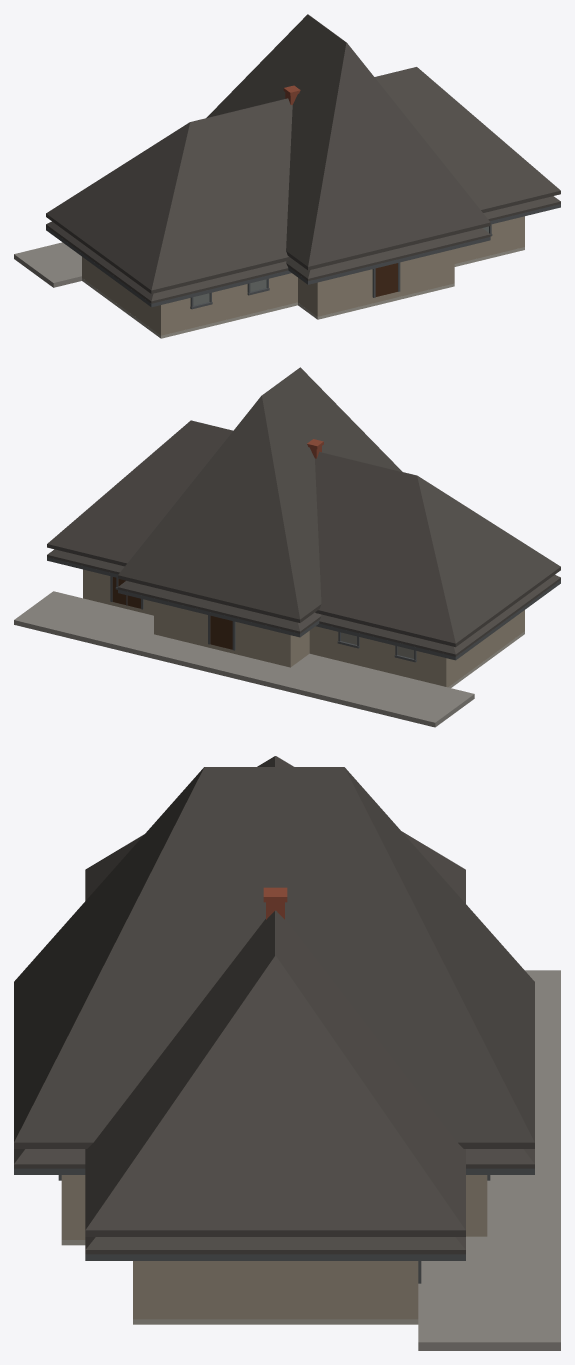
File: Racine_Junction_Depot.glb
3 renders of one model, top to bottom at view 1: azimuth 30°, elevation 25°; view 2: azimuth 150°, elevation 25°; view 3: azimuth 270°, elevation 25°, orthographic. The views are drawn at different scales.
Visible parts, largest first — view 1: roof, stone, trim, platform, foundation, doors; view 2: roof, platform, stone, trim, doors; view 3: roof, platform, stone, trim, foundation.
Boxes of the visible parts, <box> form: roof: <box>46,14,560,303</box>; stone: <box>82,216,524,335</box>; trim: <box>46,204,560,307</box>; platform: <box>14,242,81,287</box>; foundation: <box>82,247,524,338</box>; doors: <box>375,263,397,296</box>; roof: <box>47,367,560,656</box>; platform: <box>14,591,474,727</box>; stone: <box>83,569,524,687</box>; trim: <box>47,557,560,660</box>; doors: <box>112,577,232,649</box>; roof: <box>14,756,534,1254</box>; platform: <box>418,970,560,1350</box>; stone: <box>61,1175,487,1319</box>; trim: <box>14,1168,534,1283</box>; foundation: <box>61,1240,418,1324</box>.
Size of the model in its own units: 0.7778 by 0.4075 by 0.4835.
